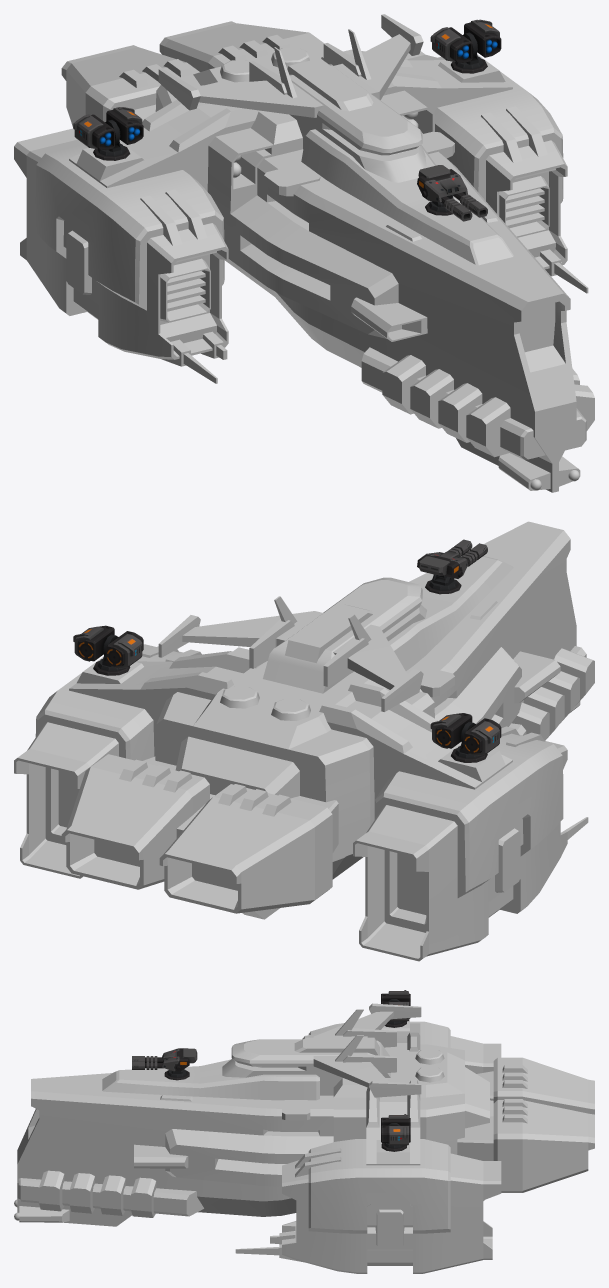
Rendered from Cruiser_blue.FBX.
3 renders of one model, top to bottom at view 1: azimuth 30°, elevation 25°; view 2: azimuth 150°, elevation 25°; view 3: azimuth 270°, elevation 25°, orthographic. The views are drawn at different scales.
Parts seen in each view (by area): view 1: Arcade01_Cruiser, Arcade1_LaserX2, Arcade1_MissilesLaunch, Arcade1_MissilesLaunch001; view 2: Arcade01_Cruiser, Arcade1_MissilesLaunch001, Arcade1_MissilesLaunch, Arcade1_LaserX2; view 3: Arcade01_Cruiser, Arcade1_LaserX2, Arcade1_MissilesLaunch, Arcade1_MissilesLaunch001.
Boxes of the visible parts, bbox=[...] form: Arcade01_Cruiser: bbox=[14, 14, 594, 492]; Arcade1_LaserX2: bbox=[417, 165, 487, 221]; Arcade1_MissilesLaunch: bbox=[430, 19, 501, 62]; Arcade1_MissilesLaunch001: bbox=[73, 107, 143, 150]; Arcade01_Cruiser: bbox=[14, 521, 594, 961]; Arcade1_MissilesLaunch001: bbox=[430, 713, 501, 755]; Arcade1_MissilesLaunch: bbox=[73, 625, 143, 668]; Arcade1_LaserX2: bbox=[417, 539, 487, 578]; Arcade01_Cruiser: bbox=[14, 1003, 594, 1273]; Arcade1_LaserX2: bbox=[132, 1048, 197, 1071]; Arcade1_MissilesLaunch: bbox=[381, 1114, 410, 1145]; Arcade1_MissilesLaunch001: bbox=[381, 990, 410, 1021].
Size of the model in its own units: 11620 by 18598 by 6910.
